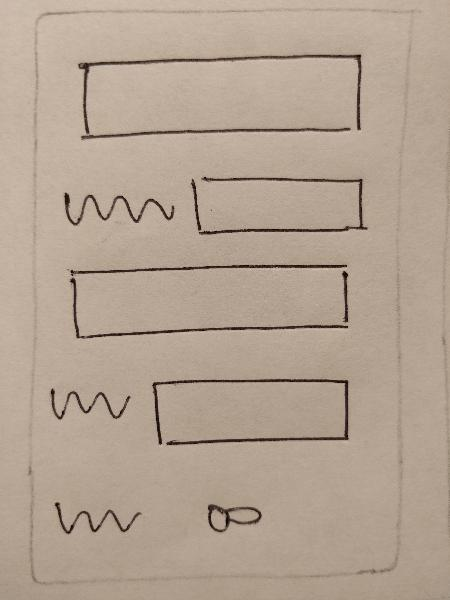switch: (192, 492, 274, 539)
text: (55, 184, 178, 235), (45, 492, 146, 543), (44, 380, 138, 432)
text_input: (70, 49, 367, 146), (59, 257, 361, 343), (143, 371, 362, 452), (185, 168, 372, 239)
